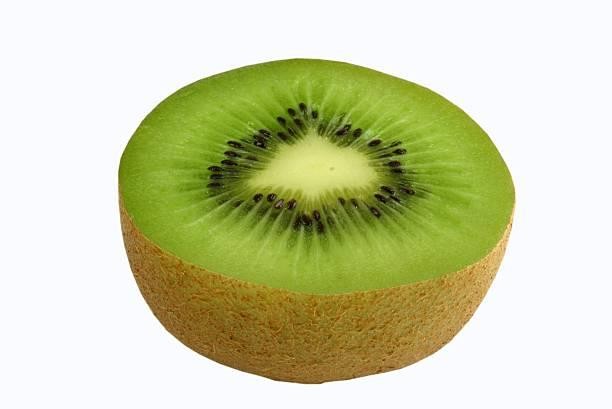kiwi: (88, 49, 530, 396)
